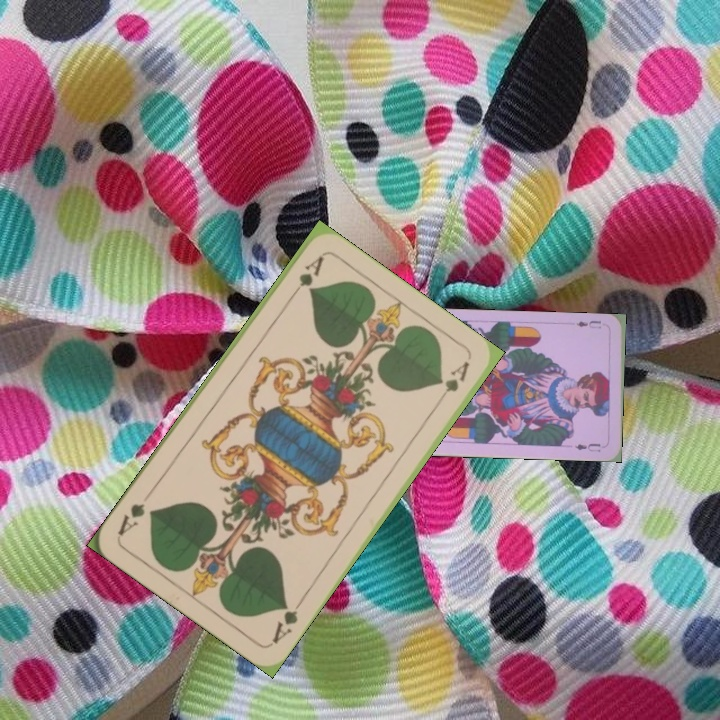EU: (572, 316, 604, 331)
GA: (285, 251, 326, 303), (267, 594, 307, 647)
